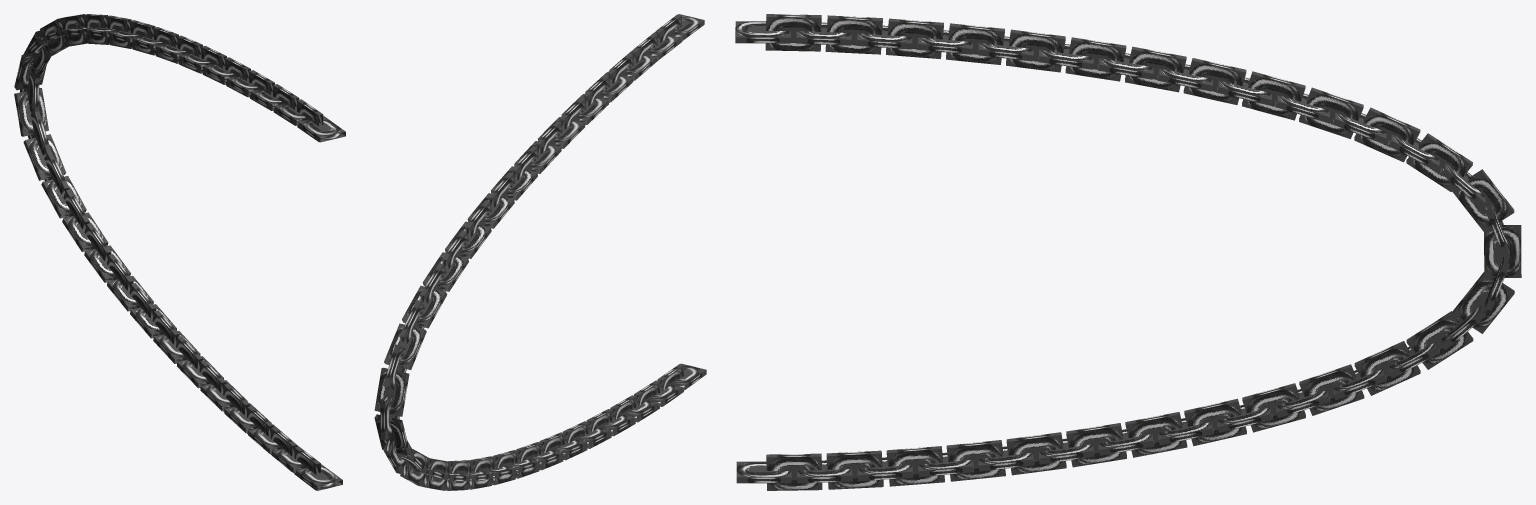
File: INST_SWORDLIGHT_CHAINA.fbx
3 views of the same model, side by side, from view 1: azimuth 30°, elevation 25°; view 2: azimuth 150°, elevation 25°; view 3: azimuth 270°, elevation 25° (orthographic). The views are drawn at different scales.
Parts seen in each view (by area): view 1: INST_SWORDLIGHT_CHAINA; view 2: INST_SWORDLIGHT_CHAINA; view 3: INST_SWORDLIGHT_CHAINA.
Boxes of the visible parts, x1=… form: INST_SWORDLIGHT_CHAINA: x1=14, y1=14, x2=345, y2=490; INST_SWORDLIGHT_CHAINA: x1=374, y1=14, x2=706, y2=490; INST_SWORDLIGHT_CHAINA: x1=735, y1=14, x2=1521, y2=490.
Bounding box in the file's own units: 1097 × 14112 × 21128.
1 material, 1 textured.
